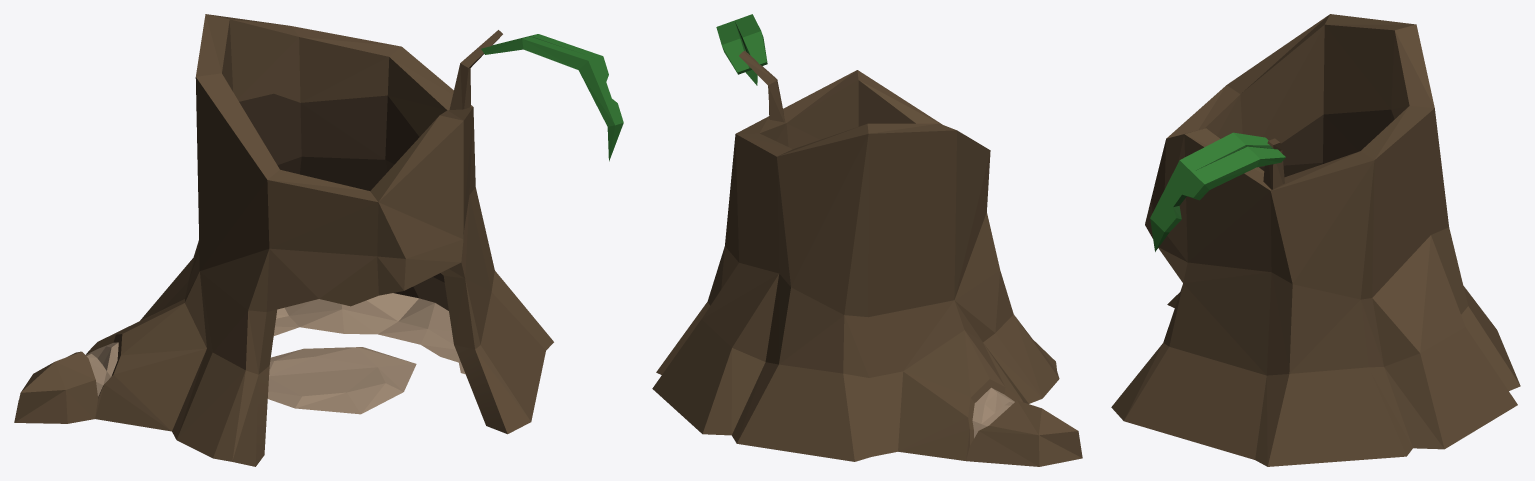
Rendered from Tree_A_01.FBX.
The picture shows the model from 3 angles, left to right: view 1: azimuth 30°, elevation 25°; view 2: azimuth 150°, elevation 25°; view 3: azimuth 270°, elevation 25°; orthographic projection. The views are drawn at different scales.
Parts seen in each view (by area): view 1: Tree_A_01; view 2: Tree_A_01; view 3: Tree_A_01.
Boxes of the visible parts, left/top/right/bottom form: Tree_A_01: left=14, top=14, right=623, bottom=466; Tree_A_01: left=652, top=14, right=1082, bottom=466; Tree_A_01: left=1111, top=14, right=1520, bottom=466.
Size of the model in its own units: 9.79 by 6.28 by 7.29.
